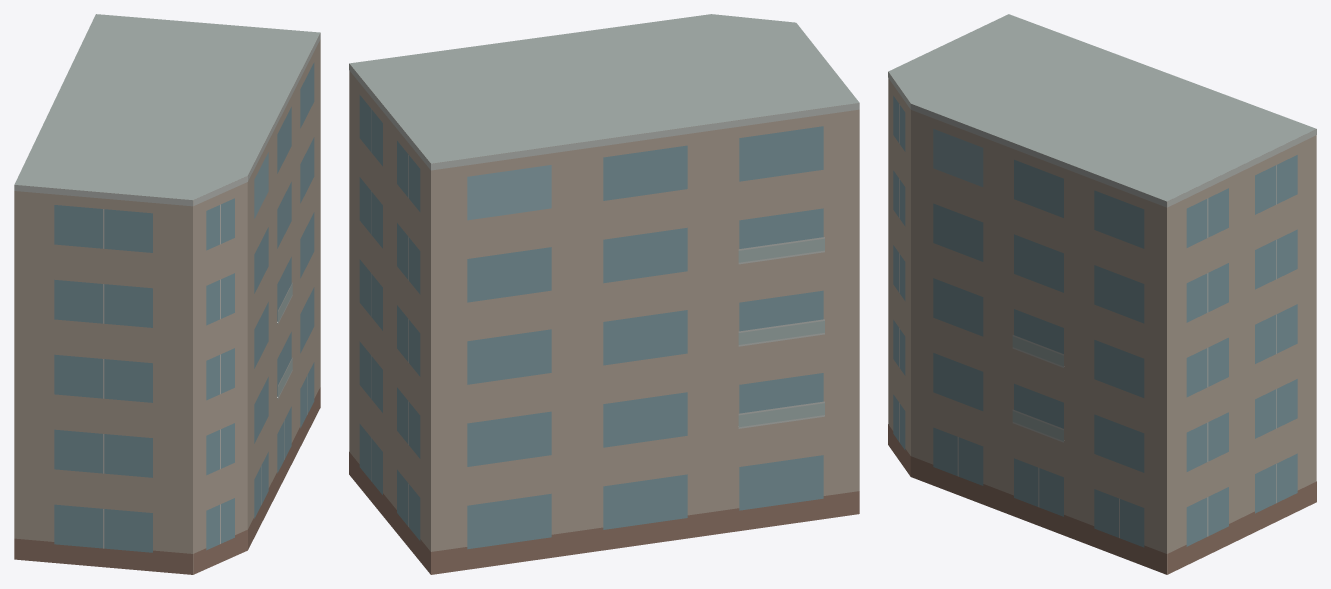
Rendered from residential-3d85d01b-81ee-468c-9f4c-df338d3bd1b3.glb.
The picture shows the model from 3 angles, left to right: view 1: azimuth 30°, elevation 25°; view 2: azimuth 150°, elevation 25°; view 3: azimuth 270°, elevation 25°; orthographic projection. The views are drawn at different scales.
Visible parts, largest first — view 1: residential-3d85d01b-81ee-468c-9f4c-df338d3bd1b3.tmp; view 2: residential-3d85d01b-81ee-468c-9f4c-df338d3bd1b3.tmp; view 3: residential-3d85d01b-81ee-468c-9f4c-df338d3bd1b3.tmp.
Part boxes in pixels (x1,y1,x2,y2): residential-3d85d01b-81ee-468c-9f4c-df338d3bd1b3.tmp: (14, 14, 320, 574); residential-3d85d01b-81ee-468c-9f4c-df338d3bd1b3.tmp: (349, 14, 859, 574); residential-3d85d01b-81ee-468c-9f4c-df338d3bd1b3.tmp: (888, 14, 1316, 574).
Bounding box in the file's own units: 15.95 × 14.8 × 15.41.
